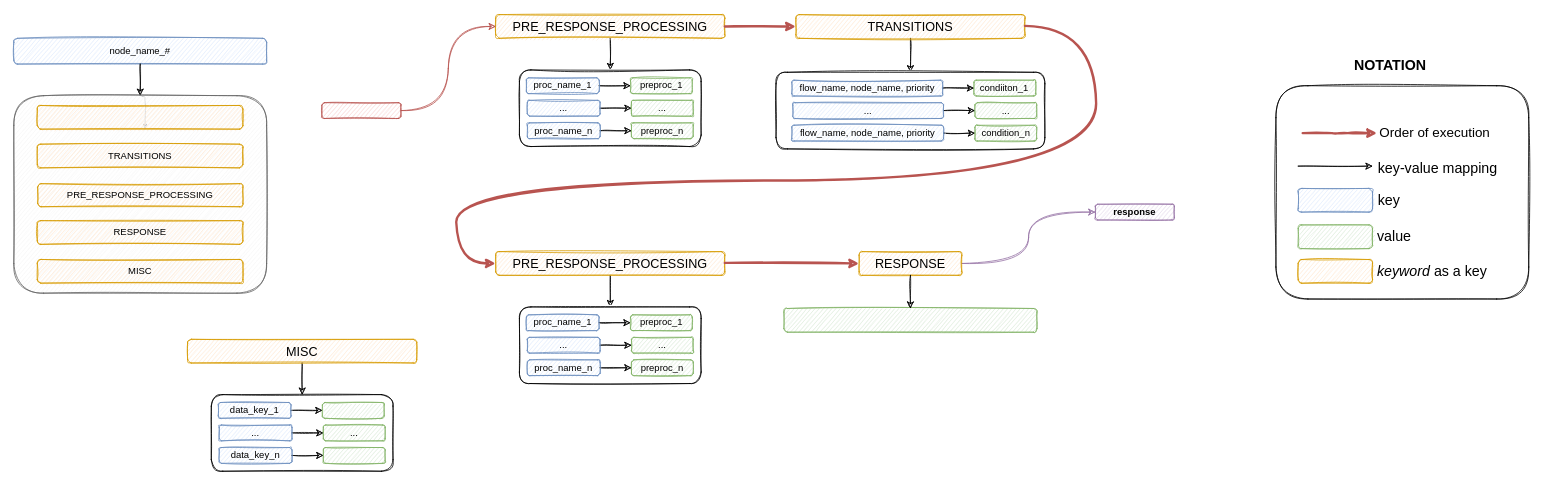
Some shapes in this 1559 by 485 pixel diagram are drawn without their labels. Each missing label, with the centre of its shape:
"data_value_1" goes at point (353, 410).
"data_value_n" goes at point (354, 455).
"PRE_TRANSITION_PROCESSING" goes at point (139, 117).
"request" goes at point (361, 110).
"RESPONSE(serializable object/ function)" goes at point (910, 320).
